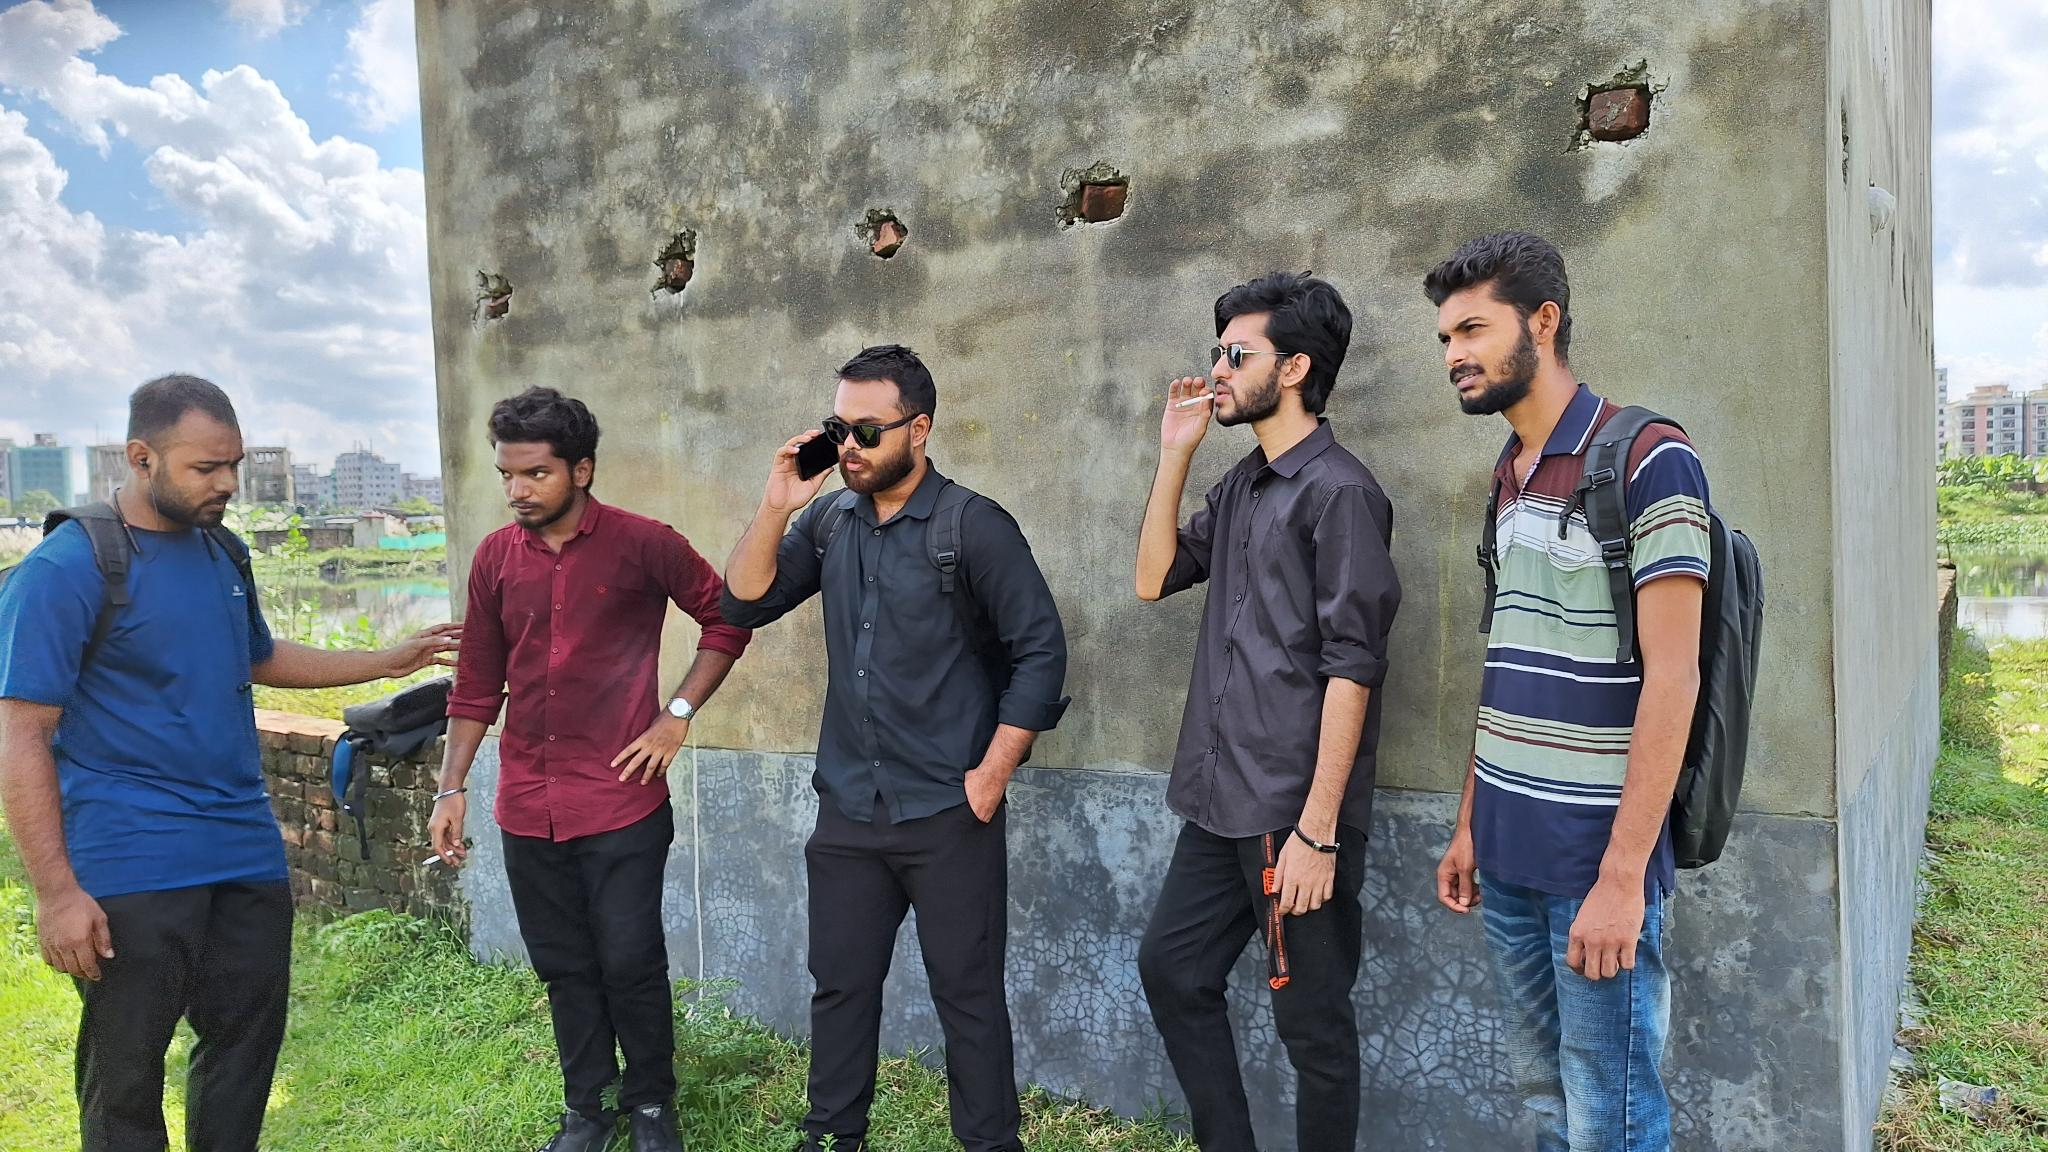cigarette: (1173, 391, 1215, 409), (421, 850, 456, 868)
nonSmoker: (0, 370, 461, 1152), (1421, 235, 1762, 1152), (726, 342, 1072, 1152)
smoker: (428, 385, 755, 1152), (1129, 270, 1407, 1152)
